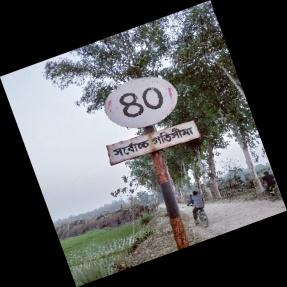Speed-limit: (103, 77, 200, 167)
